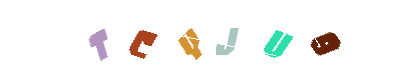9: (285, 0, 365, 80)
C: (129, 0, 209, 80)
J: (169, 0, 249, 80)
T: (109, 0, 189, 80)
V: (237, 0, 317, 80)
Y: (151, 0, 231, 80)
